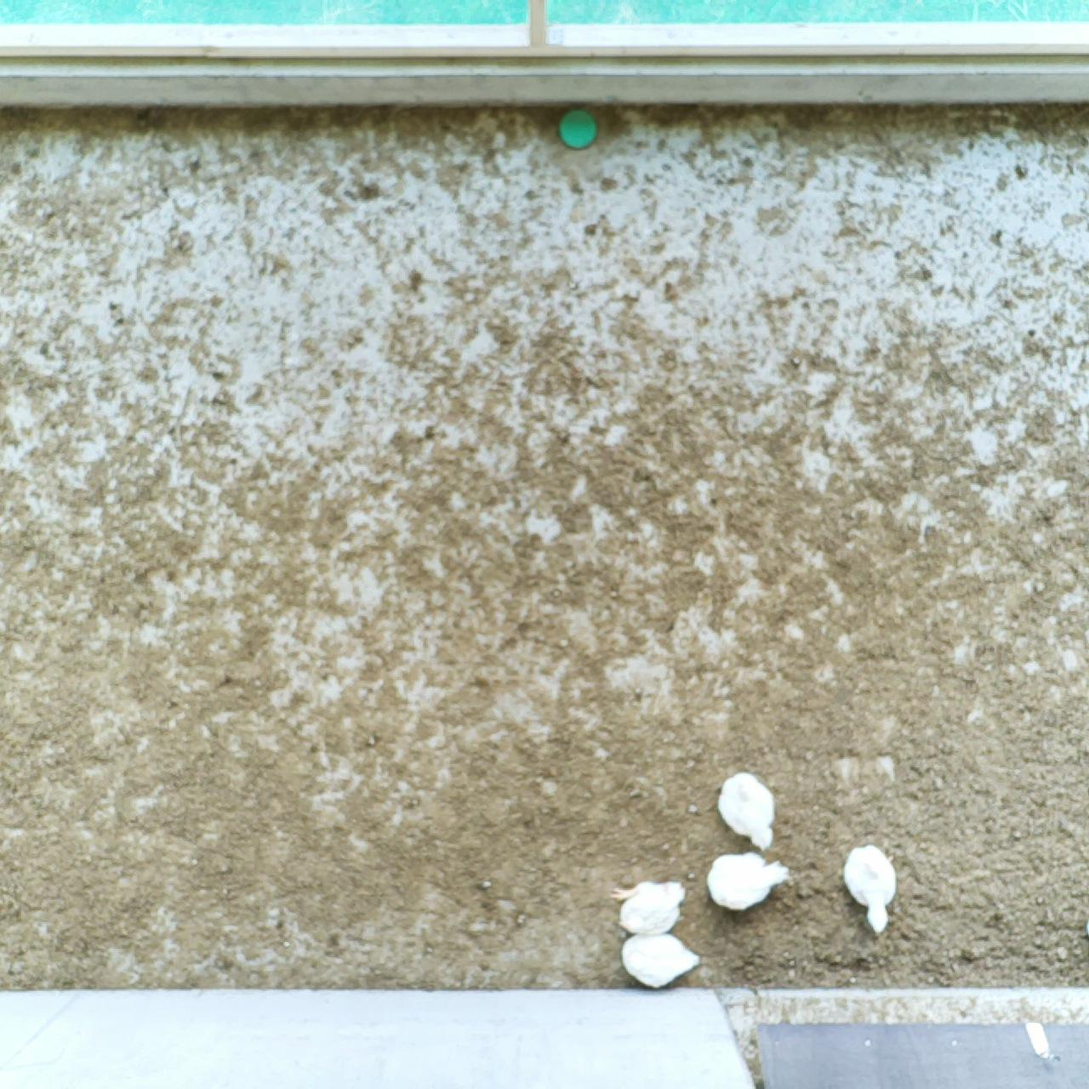chicken: (706, 848, 793, 913), (618, 927, 701, 993), (844, 842, 898, 935), (717, 771, 776, 851), (609, 877, 683, 936)
